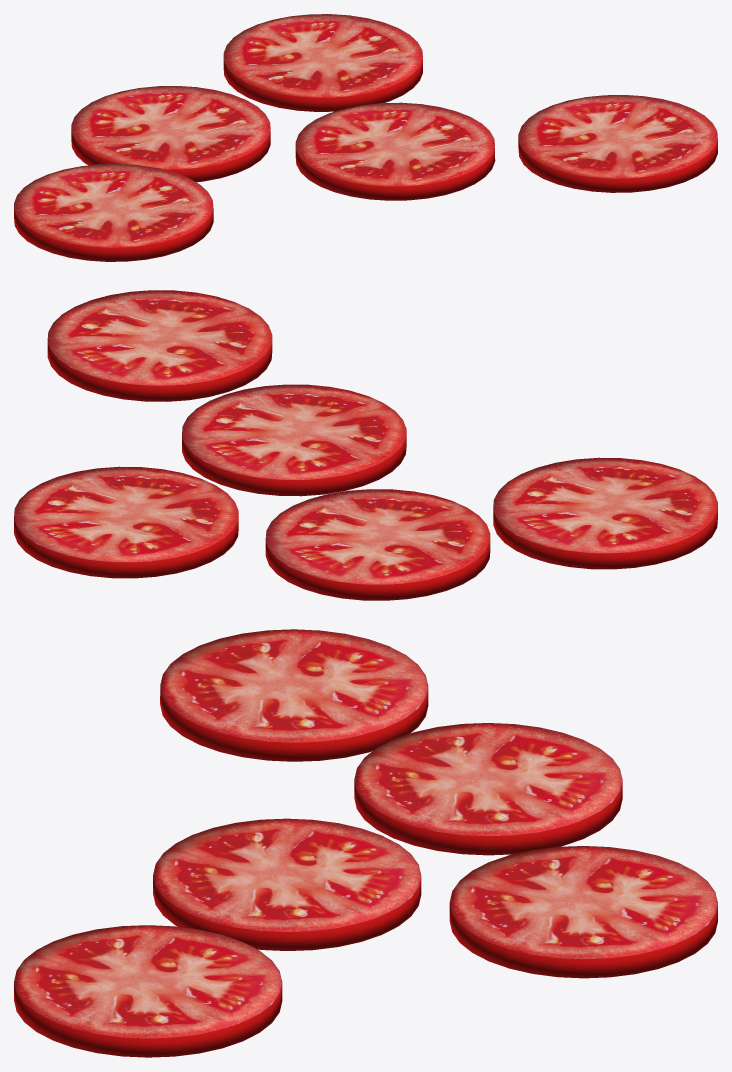
The model's file is набор помидор.fbx.
3 renders of one model, top to bottom at view 1: azimuth 30°, elevation 25°; view 2: azimuth 150°, elevation 25°; view 3: azimuth 270°, elevation 25°, orthographic. The views are drawn at different scales.
Visible parts, largest first — view 1: Окружность.008; view 2: Окружность.008; view 3: Окружность.008.
Part boxes in pixels (box(x1,y1,x2,y2)): Окружность.008: box(14, 14, 717, 261); Окружность.008: box(14, 290, 717, 600); Окружность.008: box(14, 629, 717, 1057).
Bounding box in the file's own units: 105 × 3.46 × 76.84.
